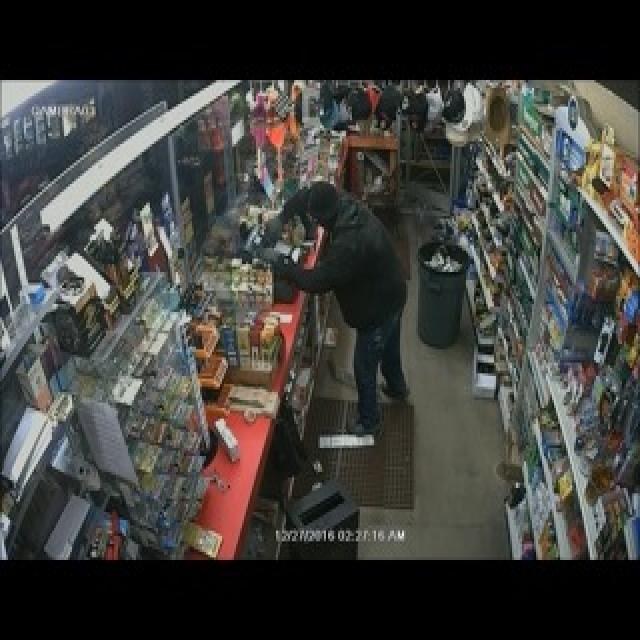thief: (284, 169, 409, 396)
